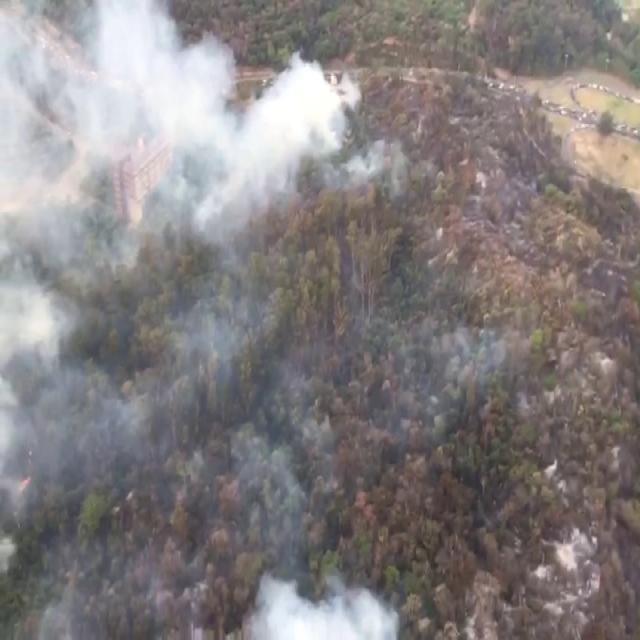Fire: (18, 444, 32, 492)
Smoke: (0, 0, 407, 248), (0, 274, 145, 584), (239, 568, 401, 640)
